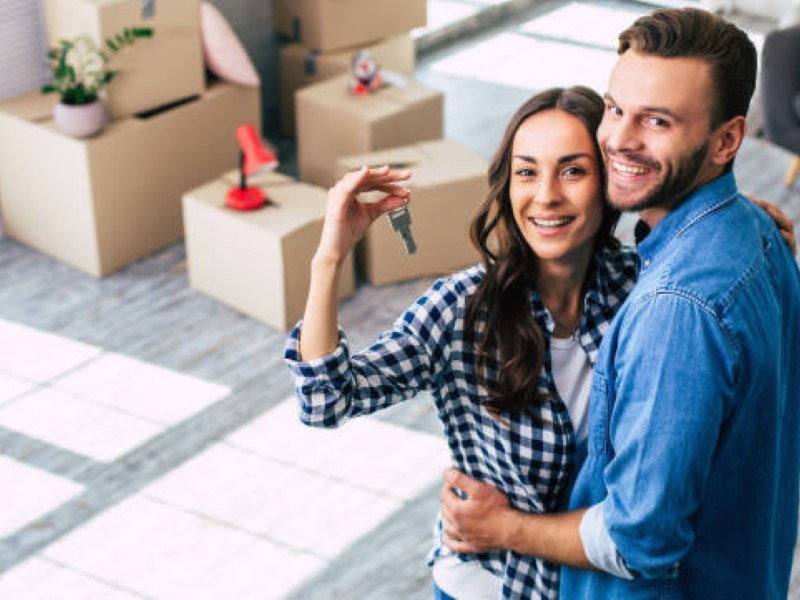key: (383, 197, 420, 259)
